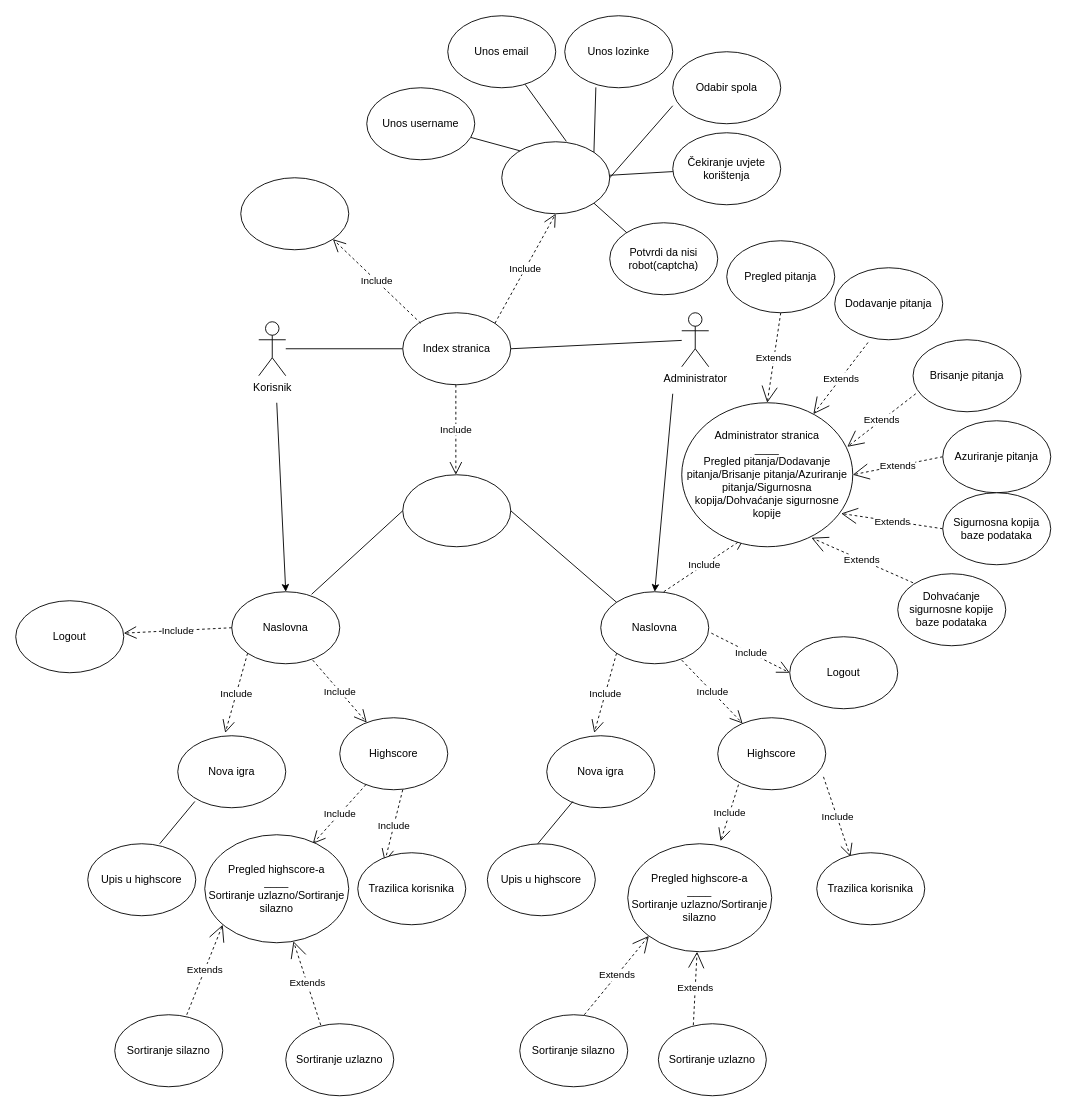
This 1067x1112 diagram has some shape labels left out. The centre of each missing label's shape, as x and y in pixels:
"Logiranje" belongs at (456,510).
"Pregled highscore-a" belongs at (294,213).
"Registracija" belongs at (555,177).
